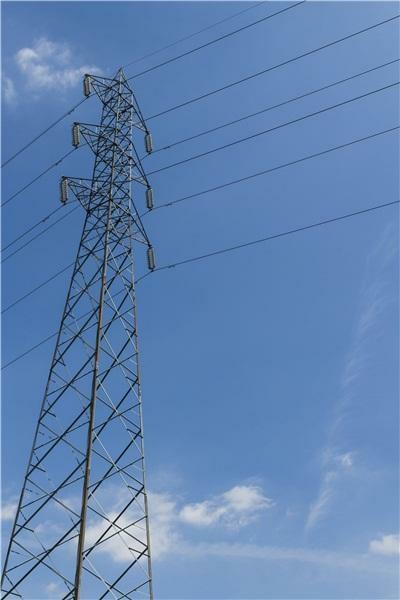power_tower: (0, 30, 162, 600)
